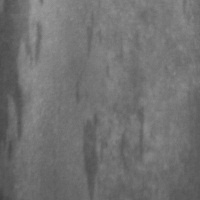inclusion: (1, 1, 44, 164), (110, 54, 149, 178), (80, 109, 108, 196), (82, 10, 104, 59), (73, 75, 88, 107)
